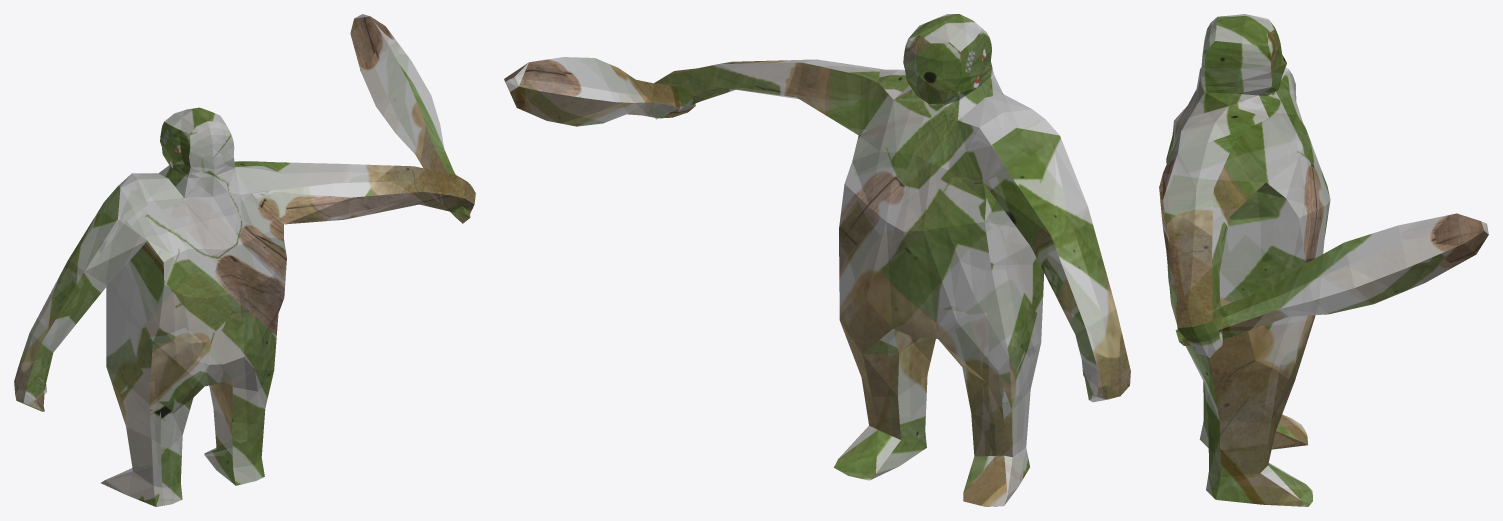
File: Enemigo25.obj
3 renders of one model, left to right at view 1: azimuth 30°, elevation 25°; view 2: azimuth 150°, elevation 25°; view 3: azimuth 270°, elevation 25°, orthographic. The views are drawn at different scales.
Visible parts, largest first — view 1: Cube; view 2: Cube; view 3: Cube.
Part boxes in pixels (<box>): Cube: <box>14,14,475,506</box>; Cube: <box>504,14,1130,506</box>; Cube: <box>1159,14,1488,506</box>.
Bounding box in the file's own units: 3.36 × 2.71 × 1.78.
1 material, 1 textured.
